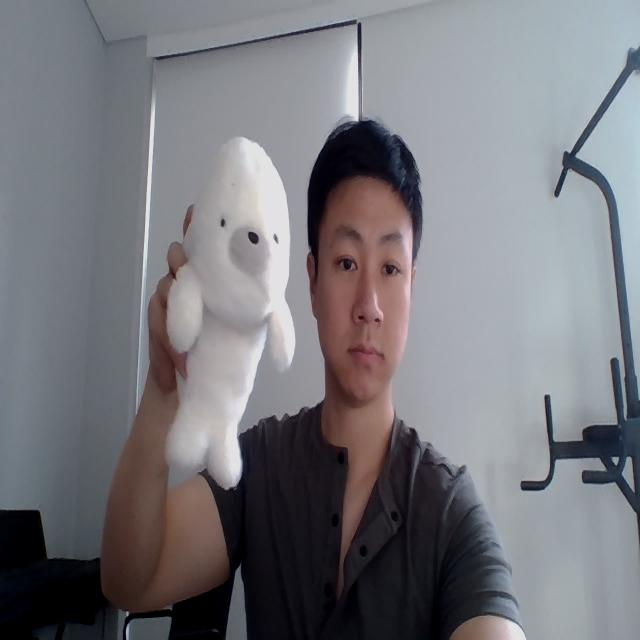seal_bb: (165, 138, 296, 493)
